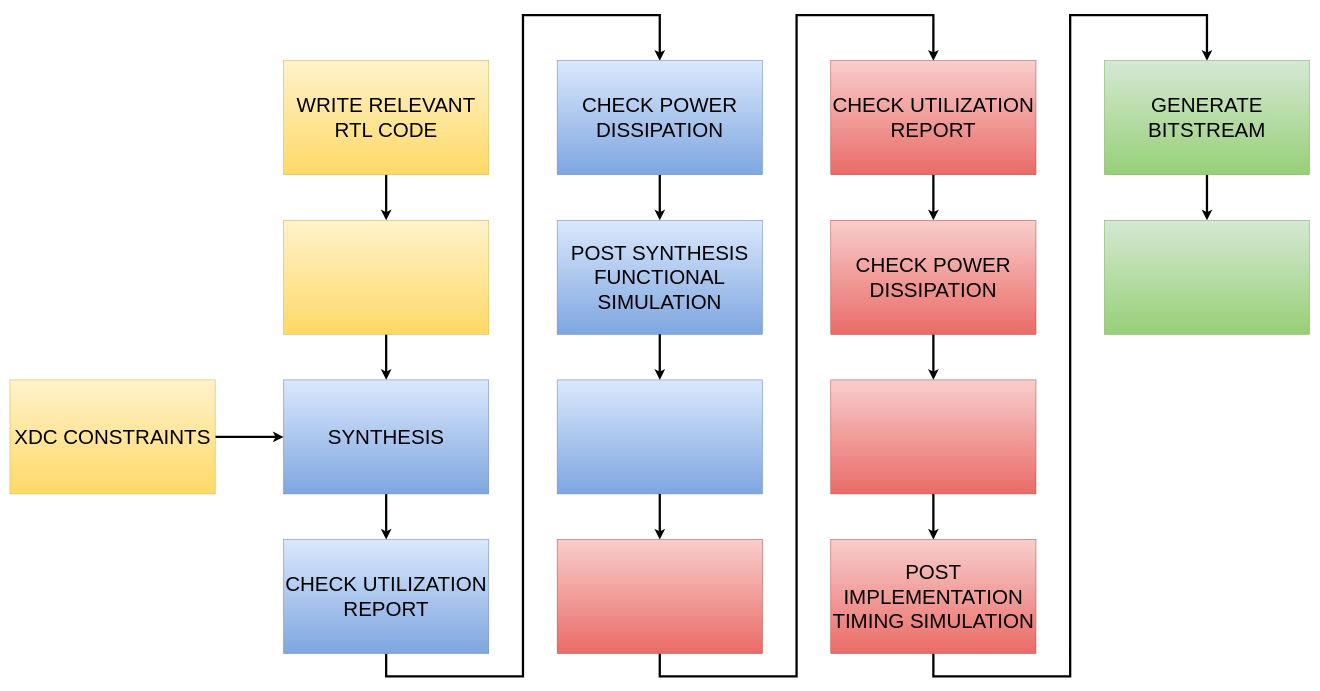
Some shapes in this 1320 by 691 pixel diagram are drawn without their labels. Each missing label, with the box of its shape:
CONDUCT BEHAVIOURAL SIMULATION: (283, 220, 489, 334)
IMPLEMENTATION: (557, 539, 762, 654)
POST IMPLEMENTATION FUNCTIONAL SIMULATION: (830, 379, 1036, 494)
POST SYNTHESIS TIMING SIMULATION: (557, 379, 762, 494)
PROGRAM ON FPGA: (1104, 220, 1310, 334)
